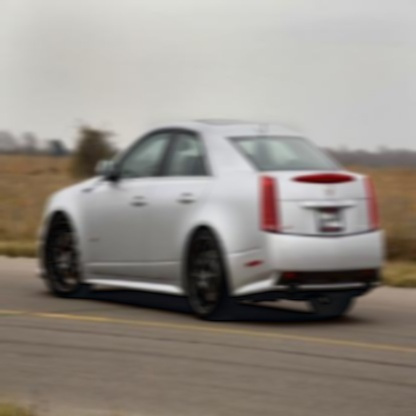Vehicle: (36, 113, 385, 326)
